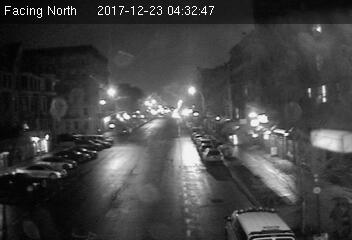car: (201, 147, 226, 162)
police: (224, 206, 299, 240)
